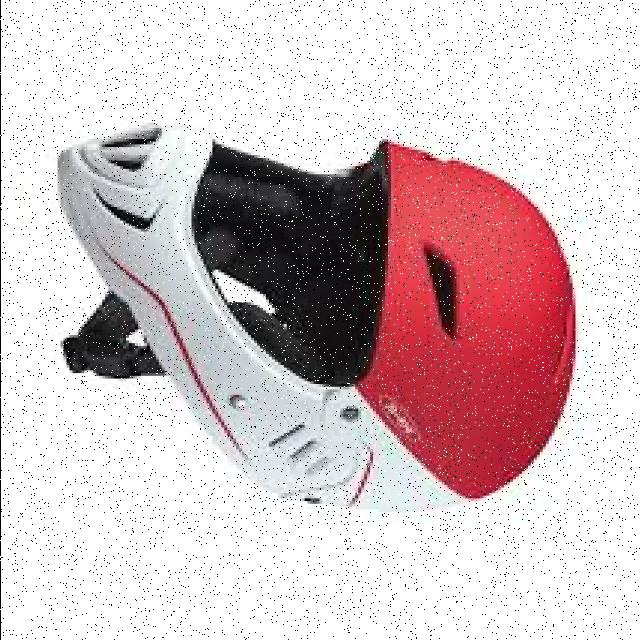Helmet: (38, 103, 594, 542)
